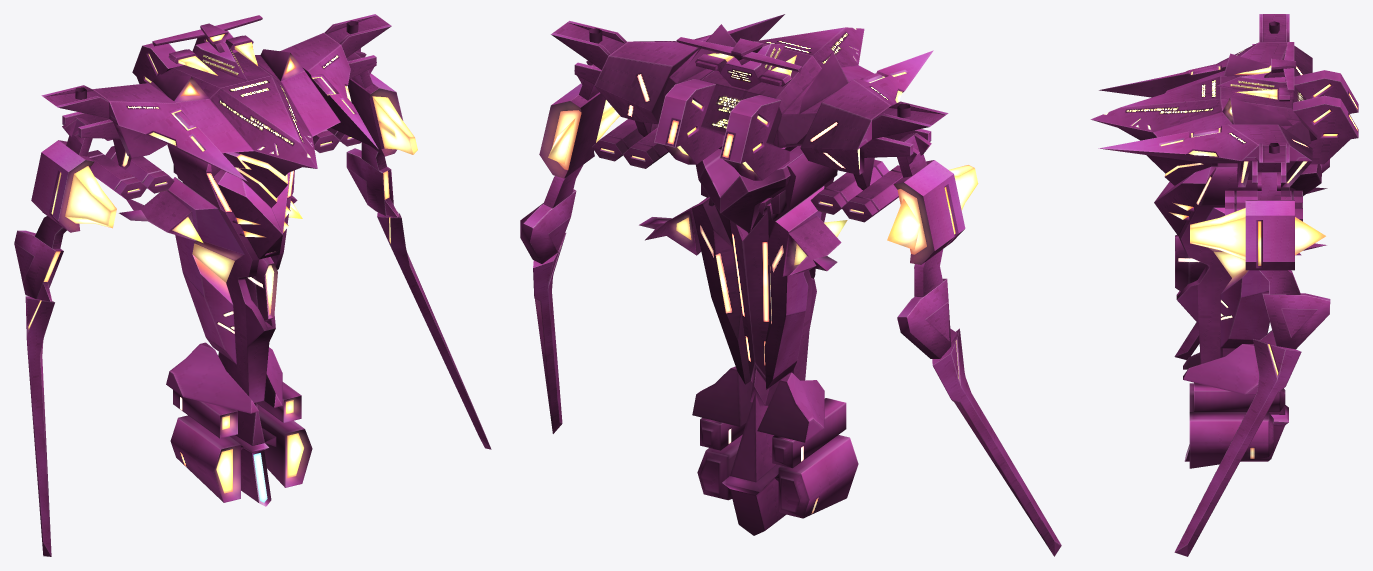
The picture shows the model from 3 angles, left to right: view 1: azimuth 30°, elevation 25°; view 2: azimuth 150°, elevation 25°; view 3: azimuth 270°, elevation 25°; orthographic projection. The views are drawn at different scales.
Visible parts, largest first — view 1: body; view 2: body; view 3: body.
Part boxes in pixels (left/top/right/bottom): body: left=14, top=14, right=491, bottom=556; body: left=520, top=14, right=1061, bottom=556; body: left=1090, top=14, right=1358, bottom=556.
Bounding box in the file's own units: 649 × 614 × 374.
Materials: 2 (2 with a texture image).
